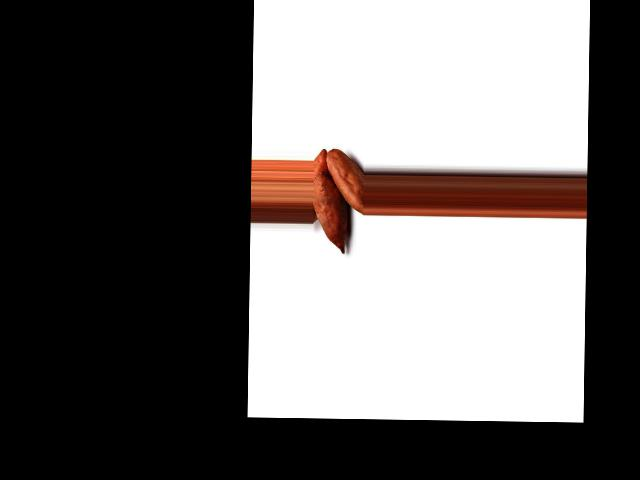sweet_potato: (326, 148, 365, 218)
